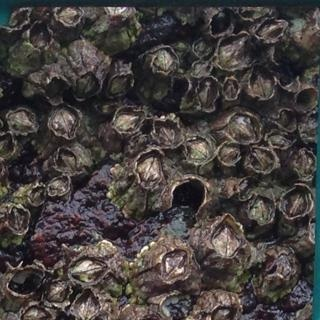Barnacle: (210, 220, 240, 260), (217, 33, 249, 70), (227, 113, 259, 145), (48, 106, 77, 140), (72, 257, 105, 286), (161, 248, 189, 280), (136, 152, 163, 185), (195, 76, 218, 112), (249, 195, 274, 227), (250, 67, 274, 99), (73, 292, 99, 320), (293, 149, 317, 179), (6, 109, 36, 133), (282, 187, 306, 216), (114, 111, 143, 135), (44, 279, 71, 304), (29, 20, 50, 51), (186, 138, 210, 165), (7, 205, 29, 233), (106, 73, 131, 97), (151, 46, 173, 73), (248, 147, 272, 171), (154, 121, 178, 145), (56, 147, 78, 173), (76, 71, 98, 96), (257, 20, 284, 40), (276, 108, 297, 131), (56, 1, 77, 23), (0, 133, 15, 162), (267, 134, 294, 150), (298, 119, 318, 140), (46, 175, 68, 194), (217, 145, 240, 163), (223, 75, 239, 98), (23, 306, 49, 320), (27, 184, 43, 205), (211, 307, 236, 320), (193, 38, 210, 55), (191, 61, 210, 76)
